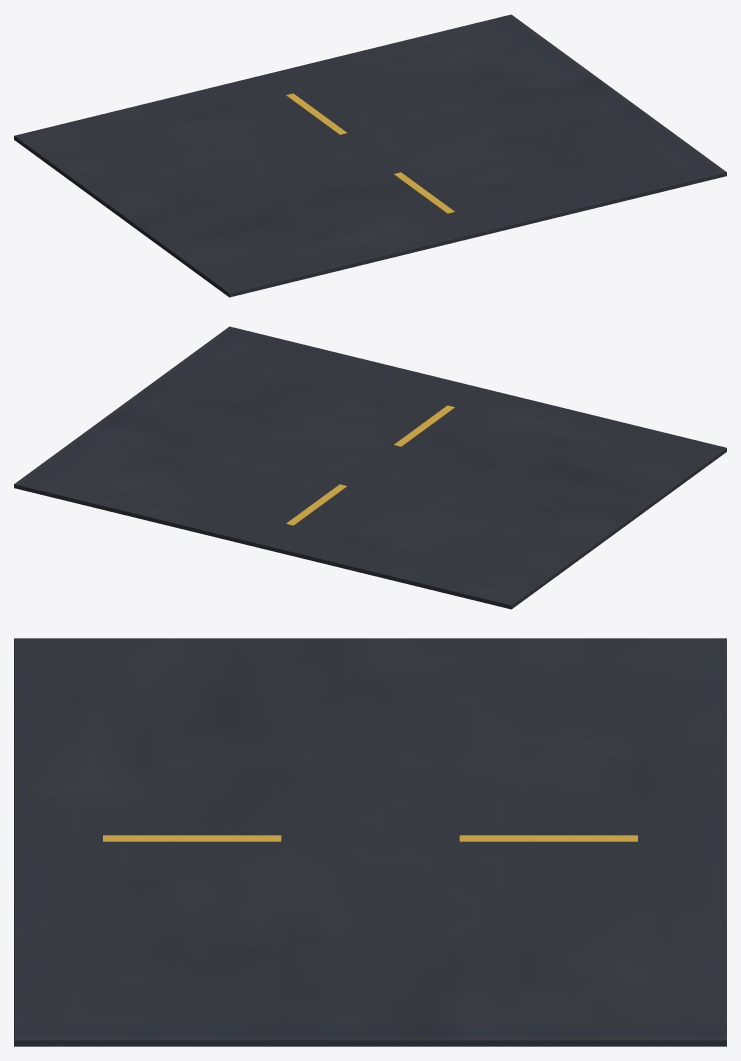
The model's file is showcase_road_straight.glb.
3 views of the same model, one above another, from view 1: azimuth 30°, elevation 25°; view 2: azimuth 150°, elevation 25°; view 3: azimuth 270°, elevation 25° (orthographic). The views are drawn at different scales.
Visible parts, largest first — view 1: outdoor_showcase_road_straight; view 2: outdoor_showcase_road_straight; view 3: outdoor_showcase_road_straight.
Boxes of the visible parts, x1,y1,x2,y2 form: outdoor_showcase_road_straight: (14, 14, 726, 297); outdoor_showcase_road_straight: (14, 326, 726, 609); outdoor_showcase_road_straight: (14, 638, 726, 1046).
Bounding box in the file's own units: 8 × 0.07 × 6.
Materials: 2 (2 with a texture image).
